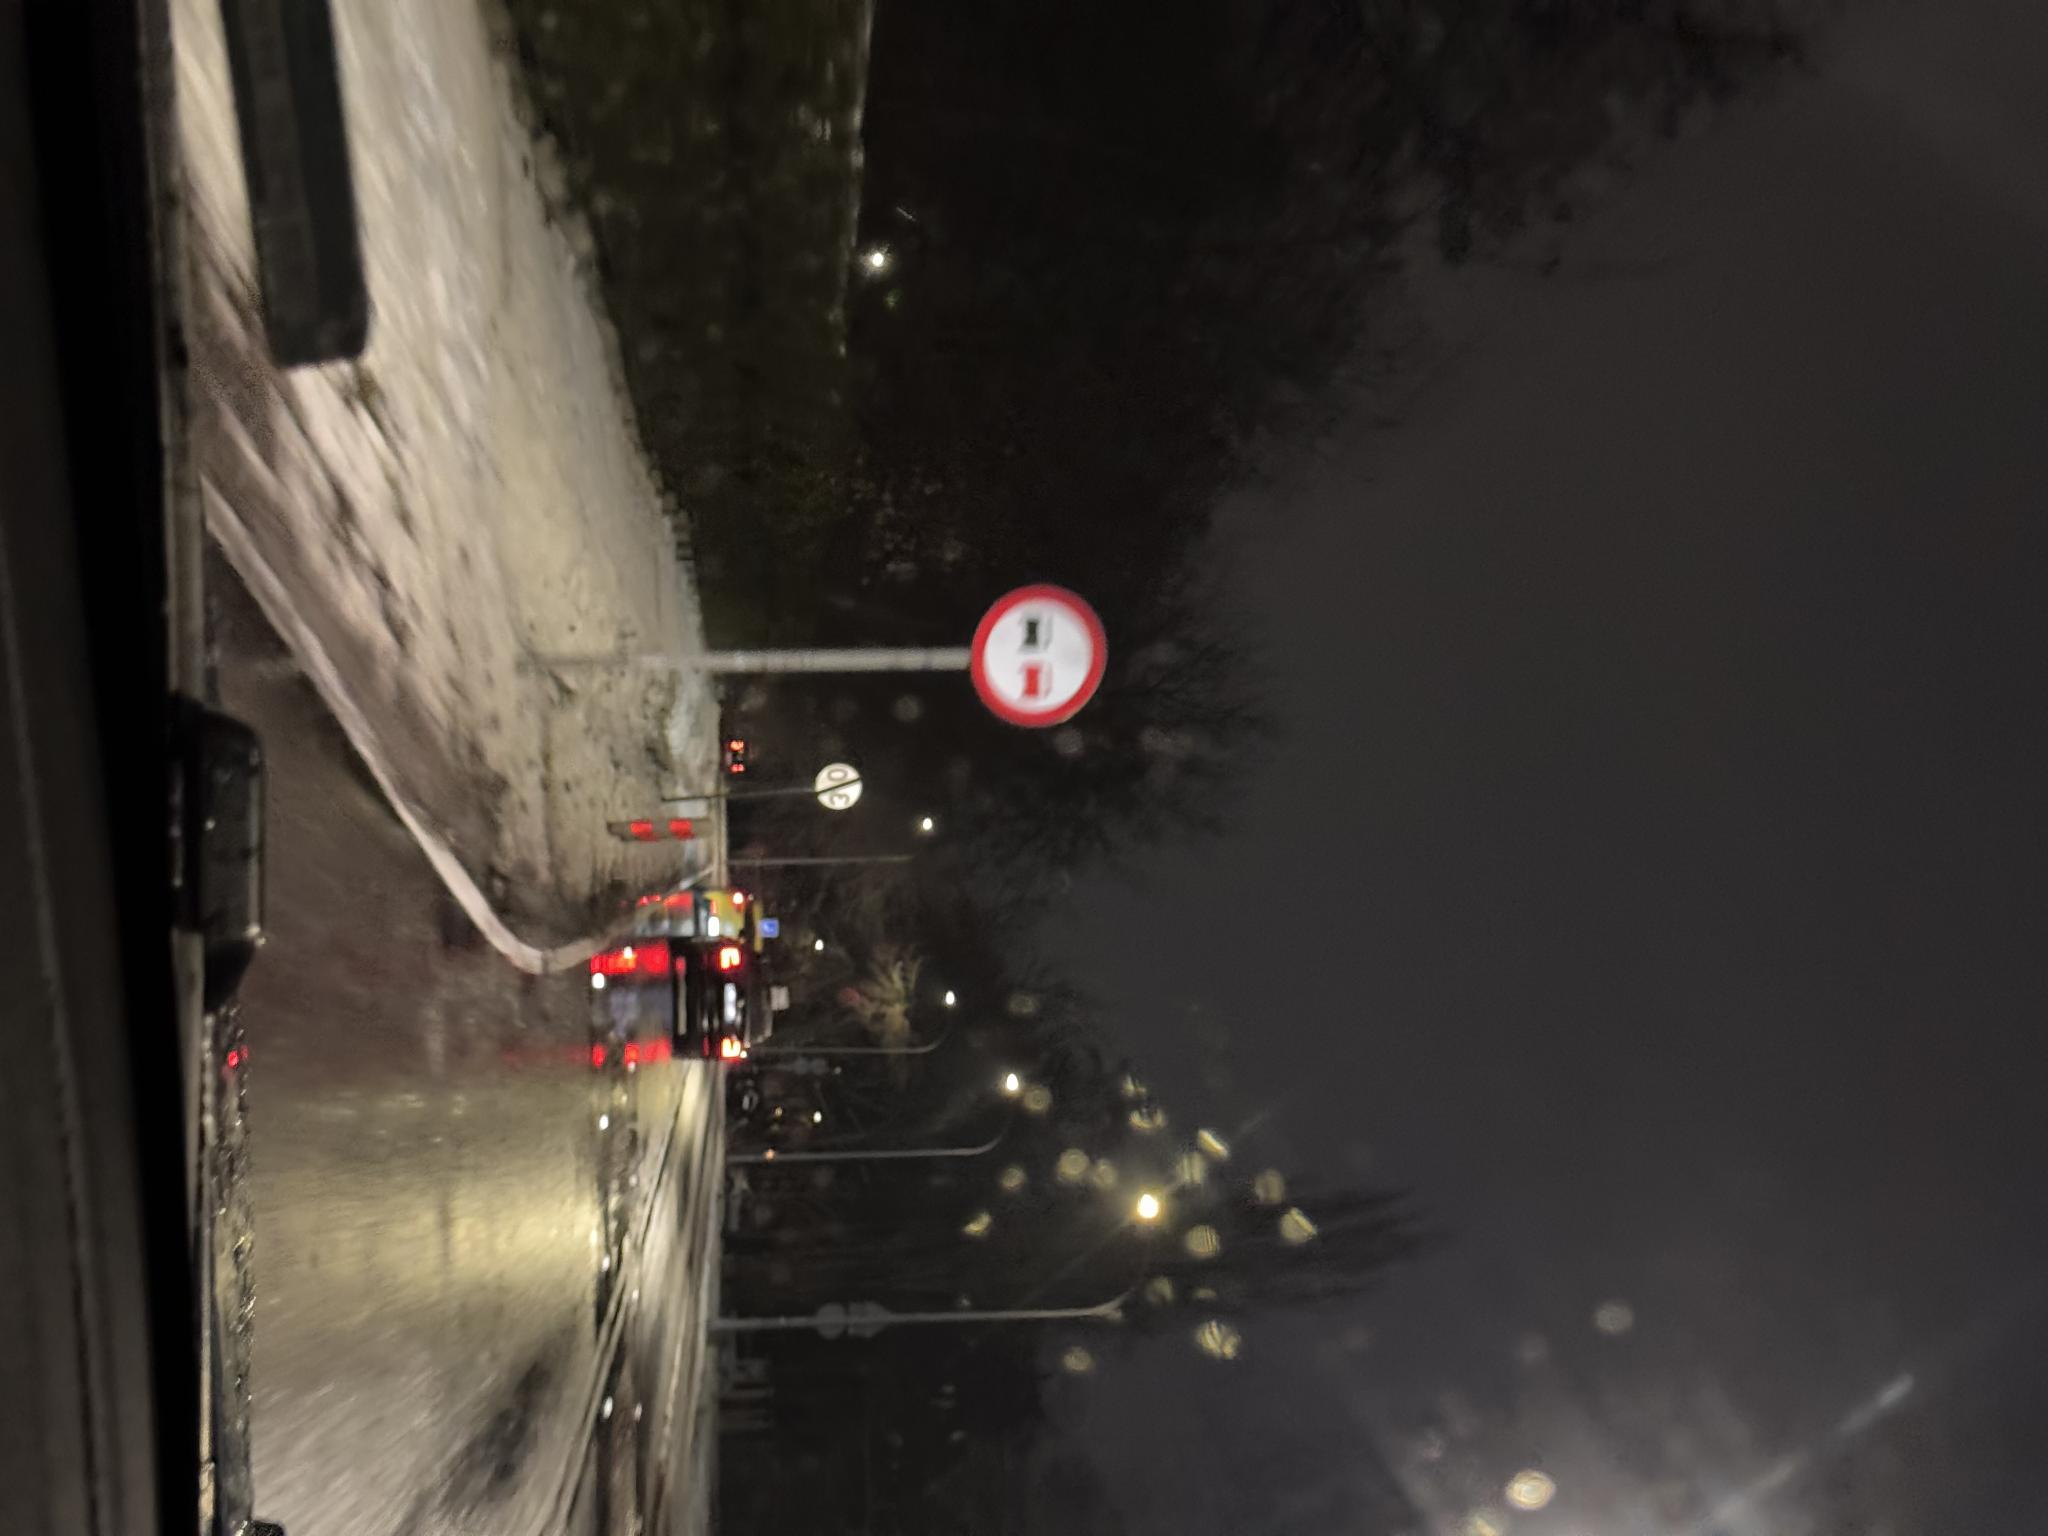prohibitory: (1093, 936, 1242, 1079), (1272, 1183, 1322, 1234)
